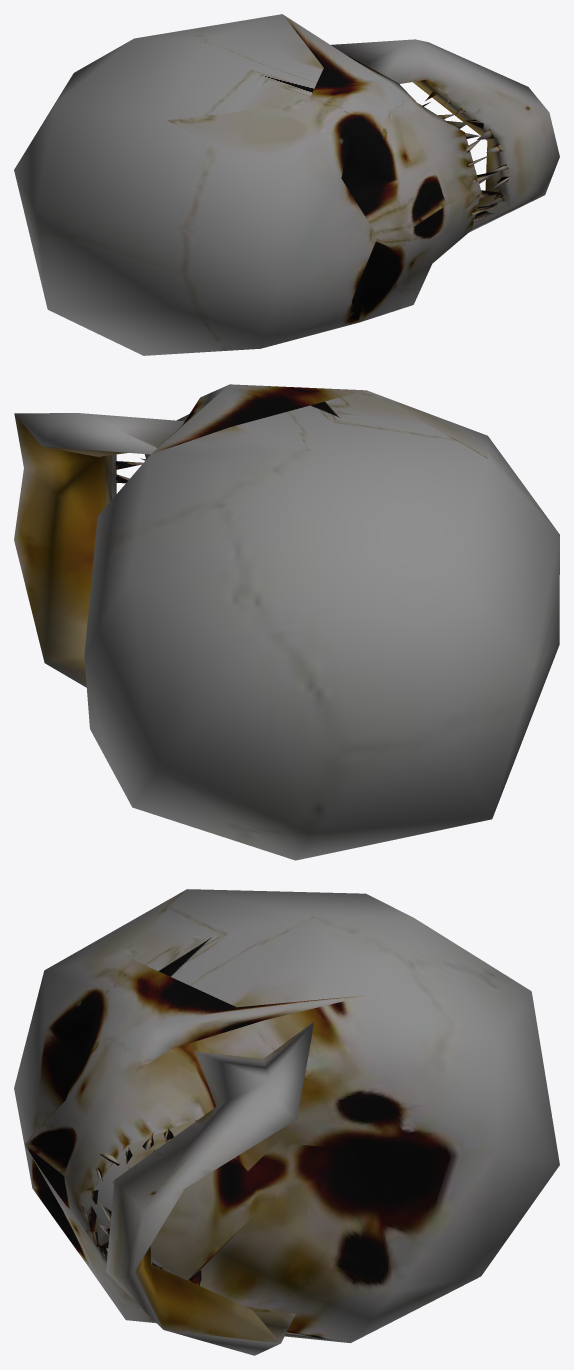
File: Dungeon_Skull_2.glb
The picture shows the model from 3 angles, top to bottom: view 1: azimuth 30°, elevation 25°; view 2: azimuth 150°, elevation 25°; view 3: azimuth 270°, elevation 25°; orthographic projection. The views are drawn at different scales.
Parts seen in each view (by area): view 1: Dungeon_Skull_2; view 2: Dungeon_Skull_2; view 3: Dungeon_Skull_2.
Part boxes in pixels (<box>): Dungeon_Skull_2: <box>14,14,559,355</box>; Dungeon_Skull_2: <box>14,384,559,860</box>; Dungeon_Skull_2: <box>14,889,559,1355</box>.
Bounding box in the file's own units: 0.3925 × 0.2429 × 0.3127.
Materials: 1 (1 with a texture image).
